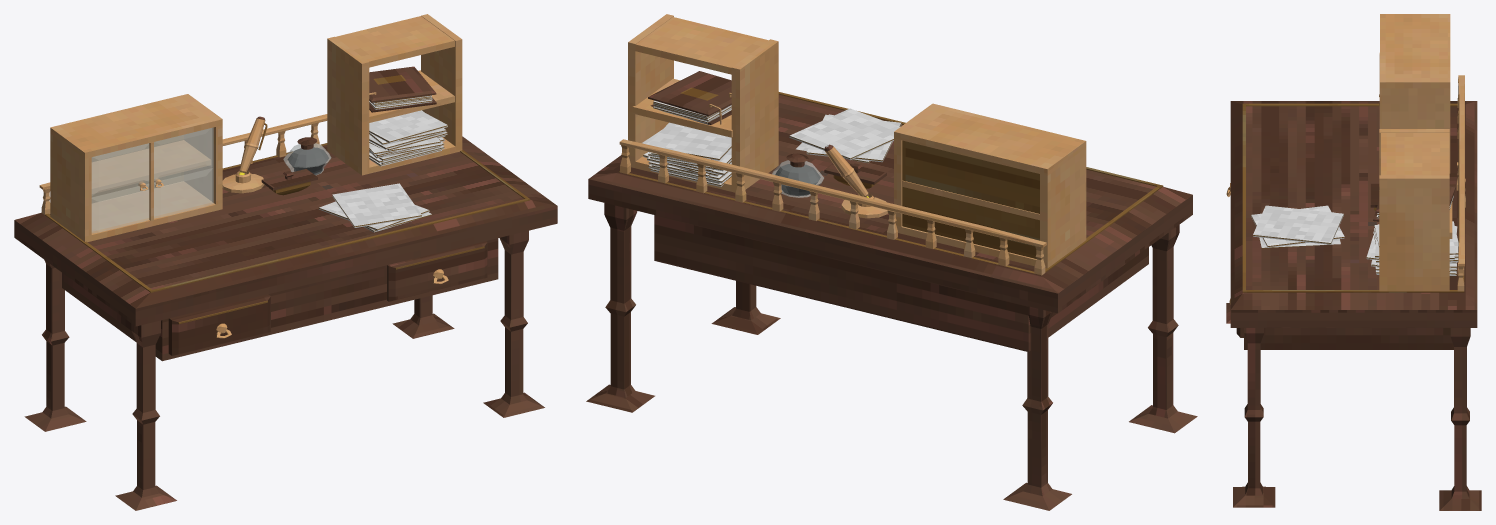
File: dad_desk1.fbx
The picture shows the model from 3 angles, left to right: view 1: azimuth 30°, elevation 25°; view 2: azimuth 150°, elevation 25°; view 3: azimuth 270°, elevation 25°; orthographic projection. The views are drawn at different scales.
Visible parts, largest first — view 1: model.003; view 2: model.003; view 3: model.003.
Boxes of the visible parts, x1,y1,x2,y2 form: model.003: (14, 14, 557, 510); model.003: (586, 14, 1197, 510); model.003: (1226, 14, 1481, 510).
Size of the model in its own units: 199 by 143 by 102.
